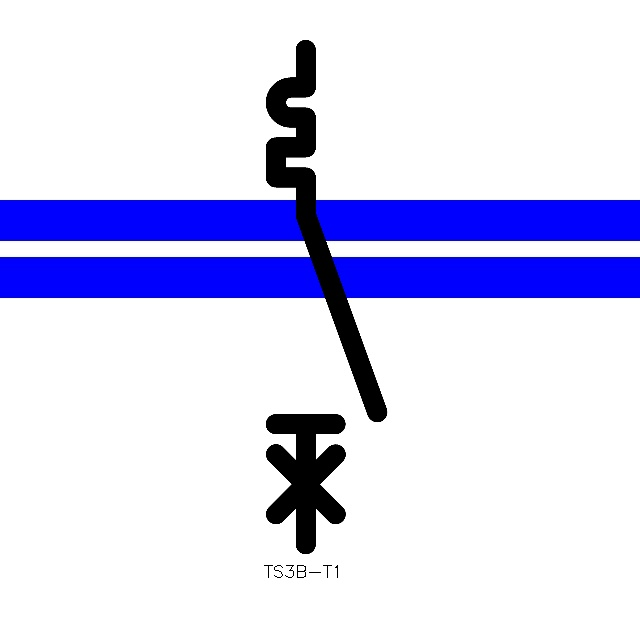interruptor_termomagnetico: (263, 37, 390, 557)
